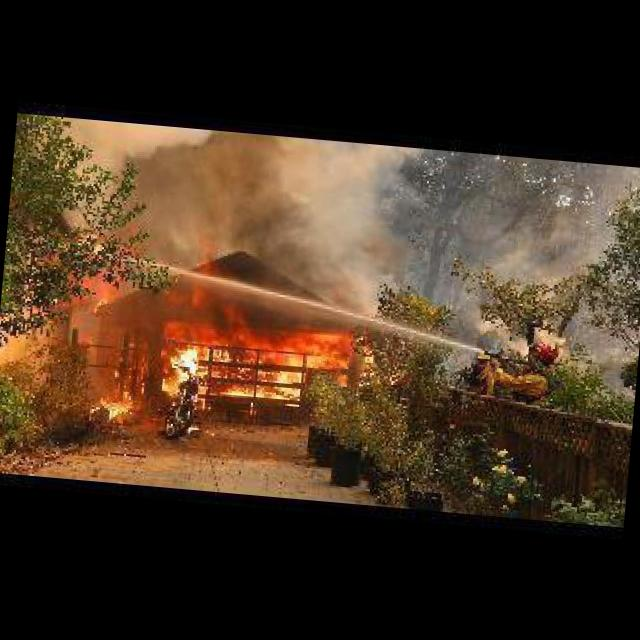Fire: (100, 274, 377, 450)
Smoke: (117, 114, 401, 314)
